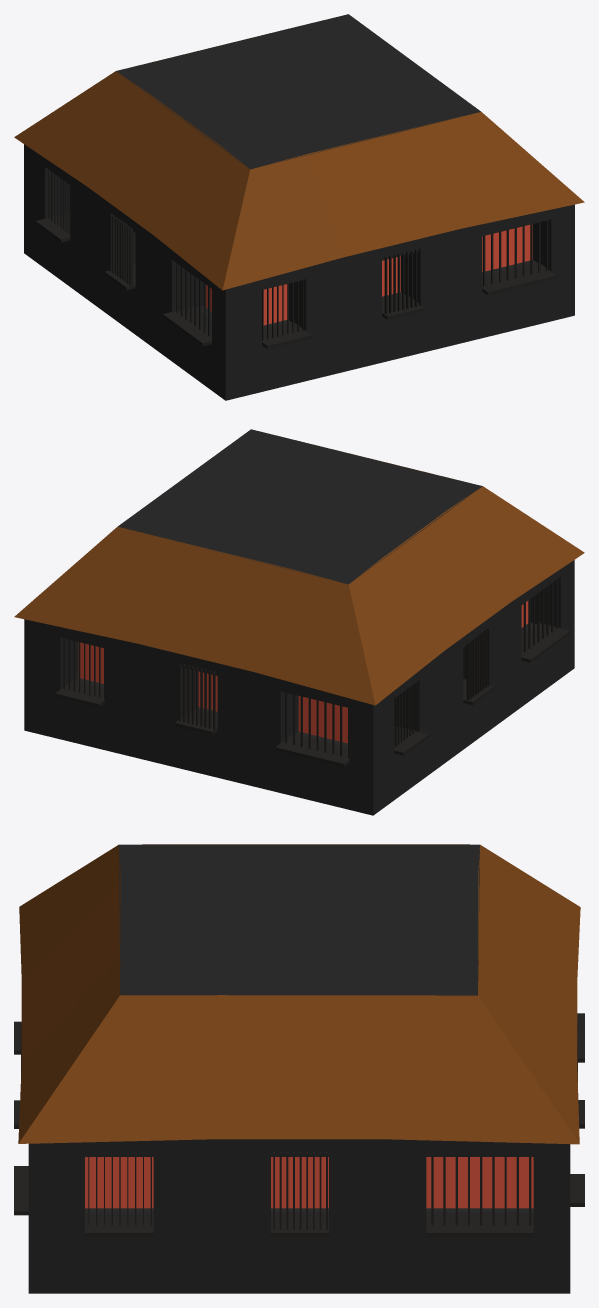
File: casa procedural_relleno_1.fbx
3 views of the same model, one above another, from view 1: azimuth 30°, elevation 25°; view 2: azimuth 150°, elevation 25°; view 3: azimuth 270°, elevation 25° (orthographic). The views are drawn at different scales.
Parts seen in each view (by area): view 1: Procedural_Building; view 2: Procedural_Building; view 3: Procedural_Building.
Boxes of the visible parts, box(x1,y1,x2,y2) form: Procedural_Building: box(14, 14, 584, 400); Procedural_Building: box(14, 429, 584, 815); Procedural_Building: box(14, 844, 584, 1293).
Bounding box in the file's own units: 316 × 159 × 316.
